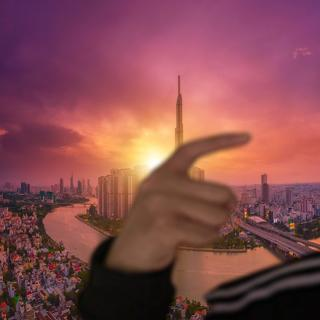WHY: (104, 122, 261, 276)
